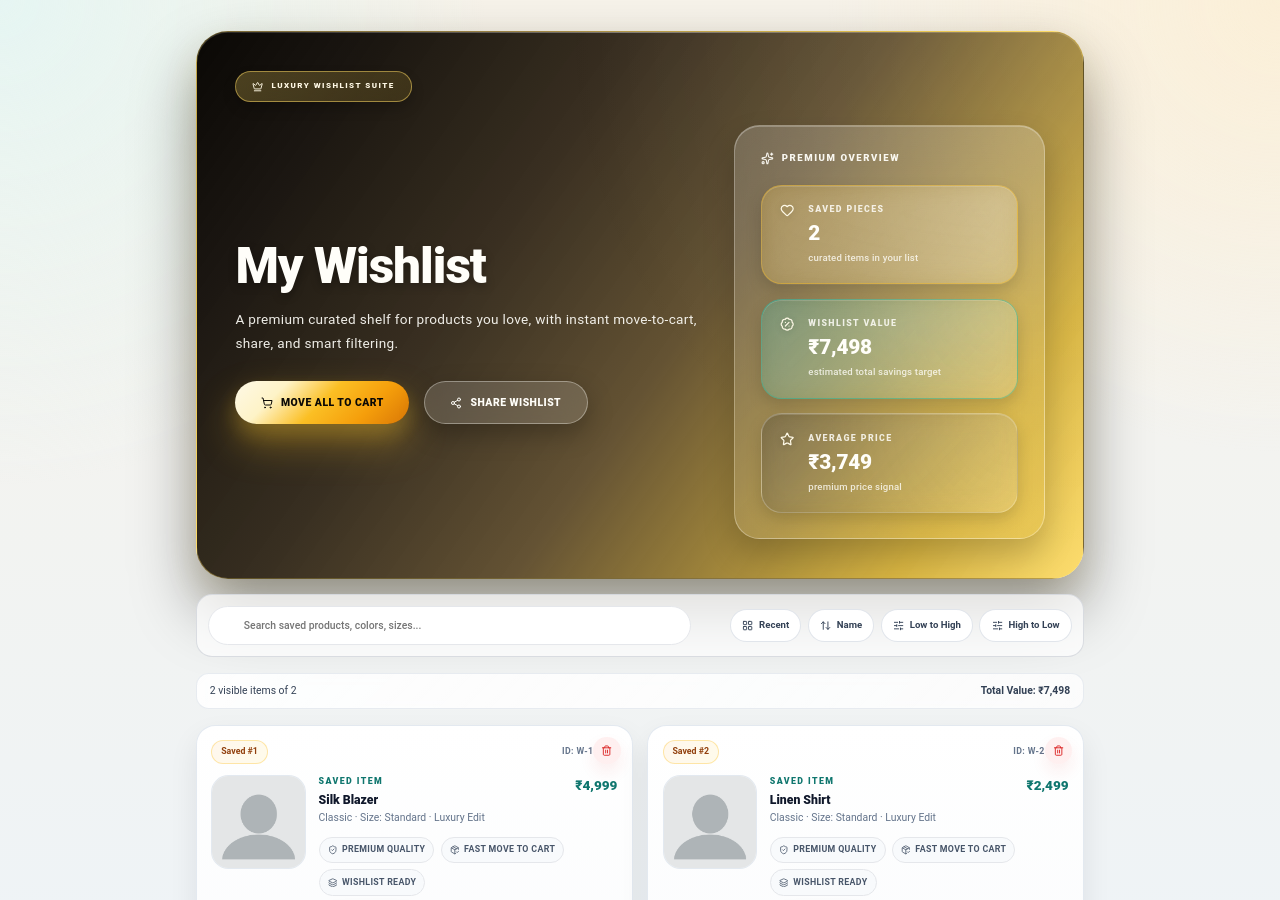
moving all items succeeds with exactly ONE toast, not one per item
Expected: the heading "Silk Blazer" is shown, 319,793 -> 383,808
Click the button "Move All to Cart" at (322, 403), box 235,381 -> 410,424
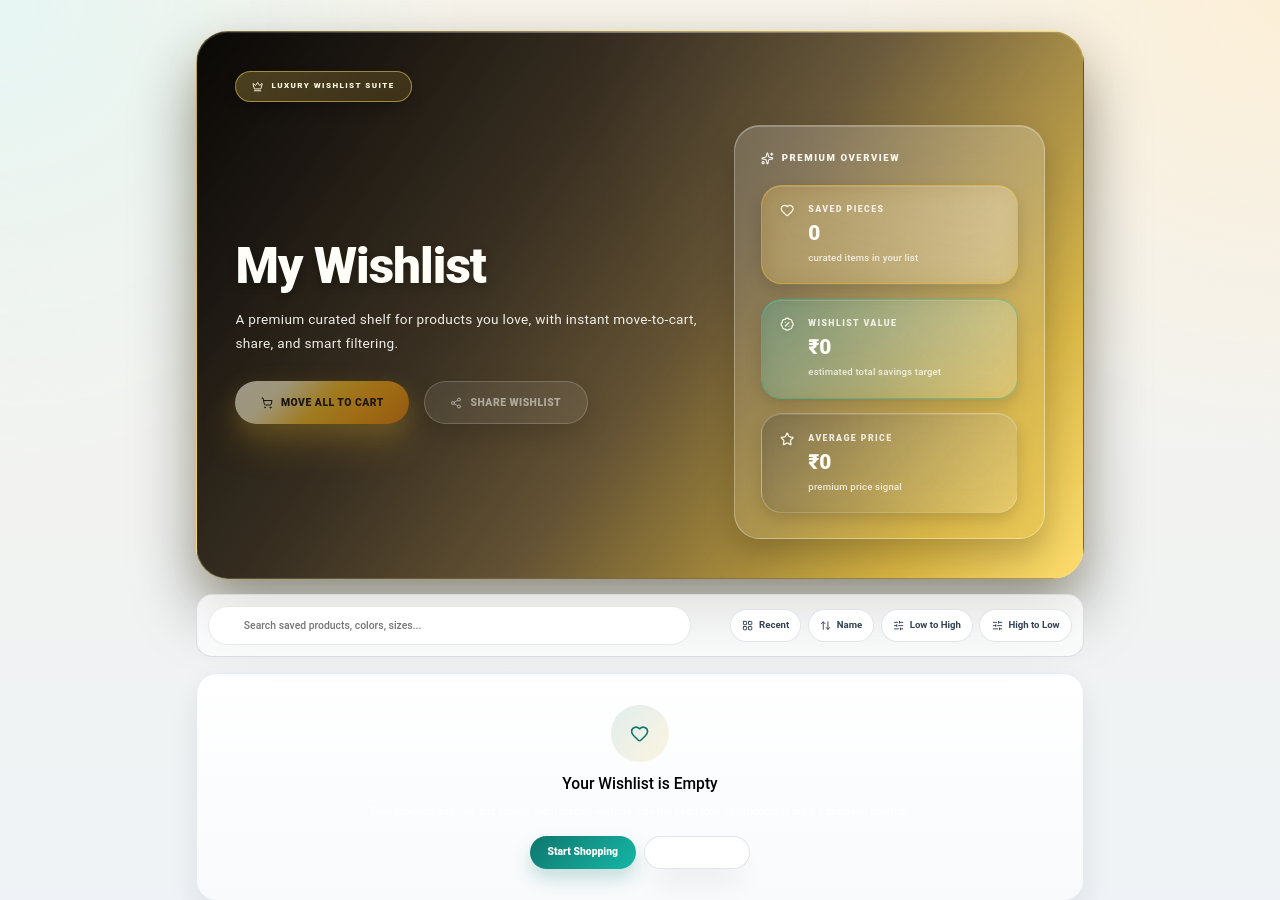
Expected: the heading "Silk Blazer" is gone
Expected: the heading "Linen Shirt" is gone
